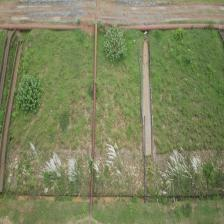slope drain: (0, 40, 22, 192), (0, 30, 15, 110), (142, 39, 152, 156)
